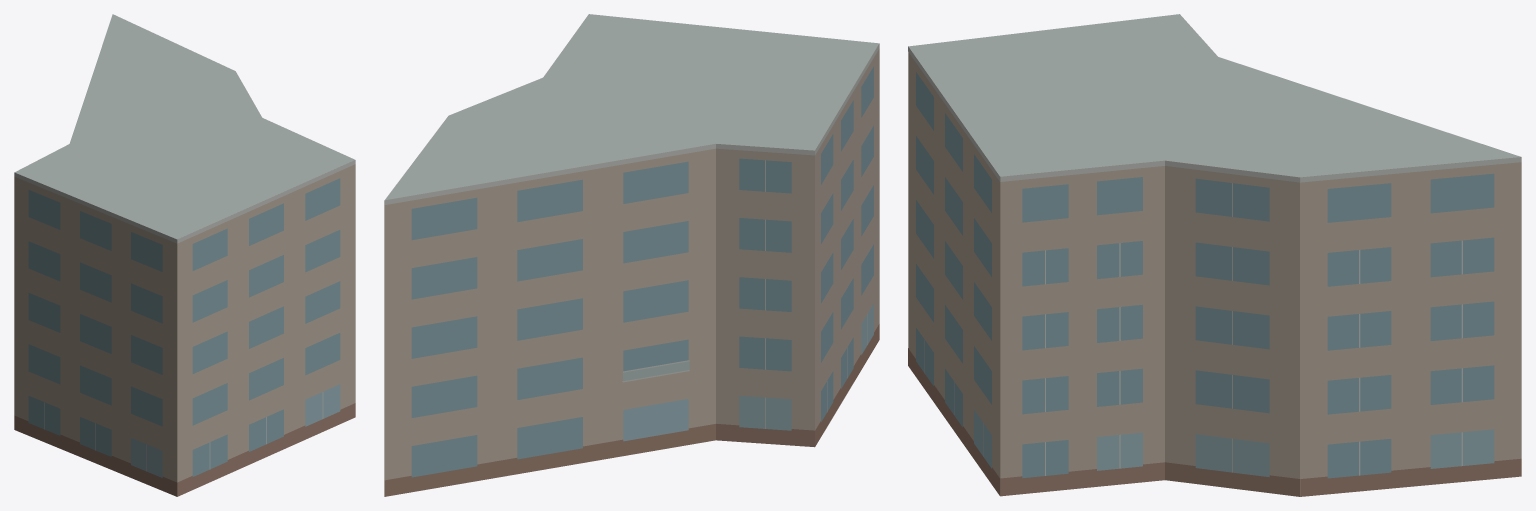
File: survey-upis-32666297.glb
The picture shows the model from 3 angles, left to right: view 1: azimuth 30°, elevation 25°; view 2: azimuth 150°, elevation 25°; view 3: azimuth 270°, elevation 25°; orthographic projection. The views are drawn at different scales.
Visible parts, largest first — view 1: survey-upis-32666297.tmp; view 2: survey-upis-32666297.tmp; view 3: survey-upis-32666297.tmp.
Part boxes in pixels (x1,y1,x2,y2): survey-upis-32666297.tmp: [14, 14, 355, 496]; survey-upis-32666297.tmp: [384, 14, 879, 496]; survey-upis-32666297.tmp: [908, 14, 1521, 496].
Bounding box in the file's own units: 16.46 × 15 × 26.11.
